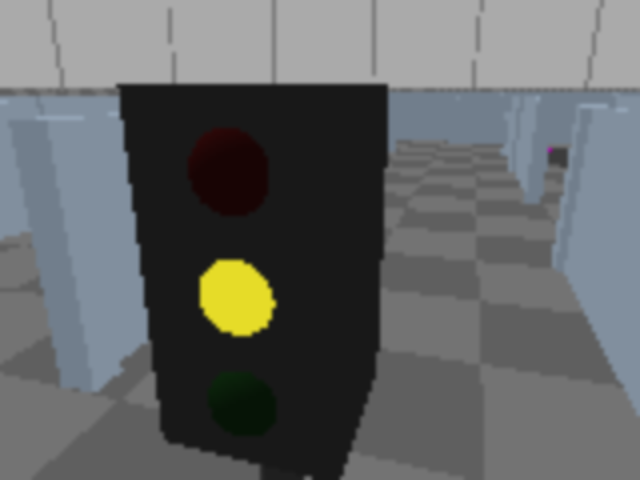traffic_light: (113, 40, 391, 478)
